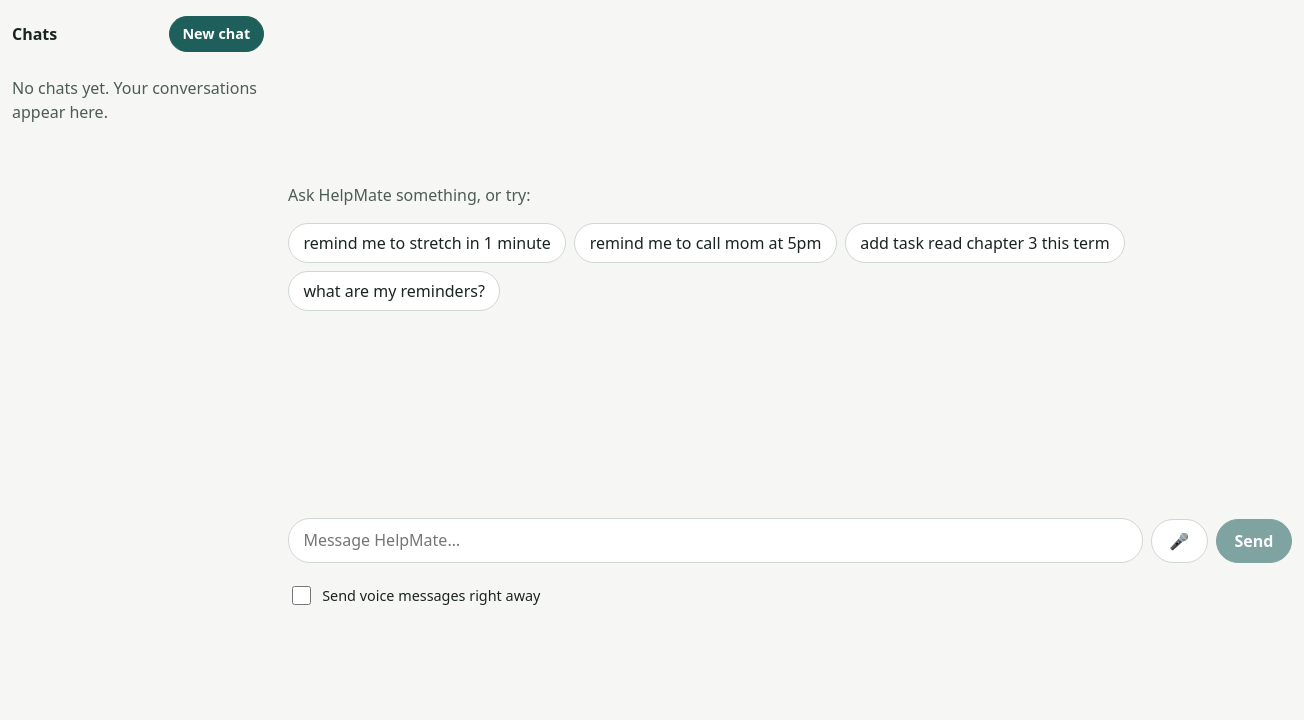
Test: Chat with voice › typed messages are not spoken
Type "tell me a joke" into the text box labelled "Message" at [715, 540], box left=288, top=518, right=1143, bottom=563
Then press Enter
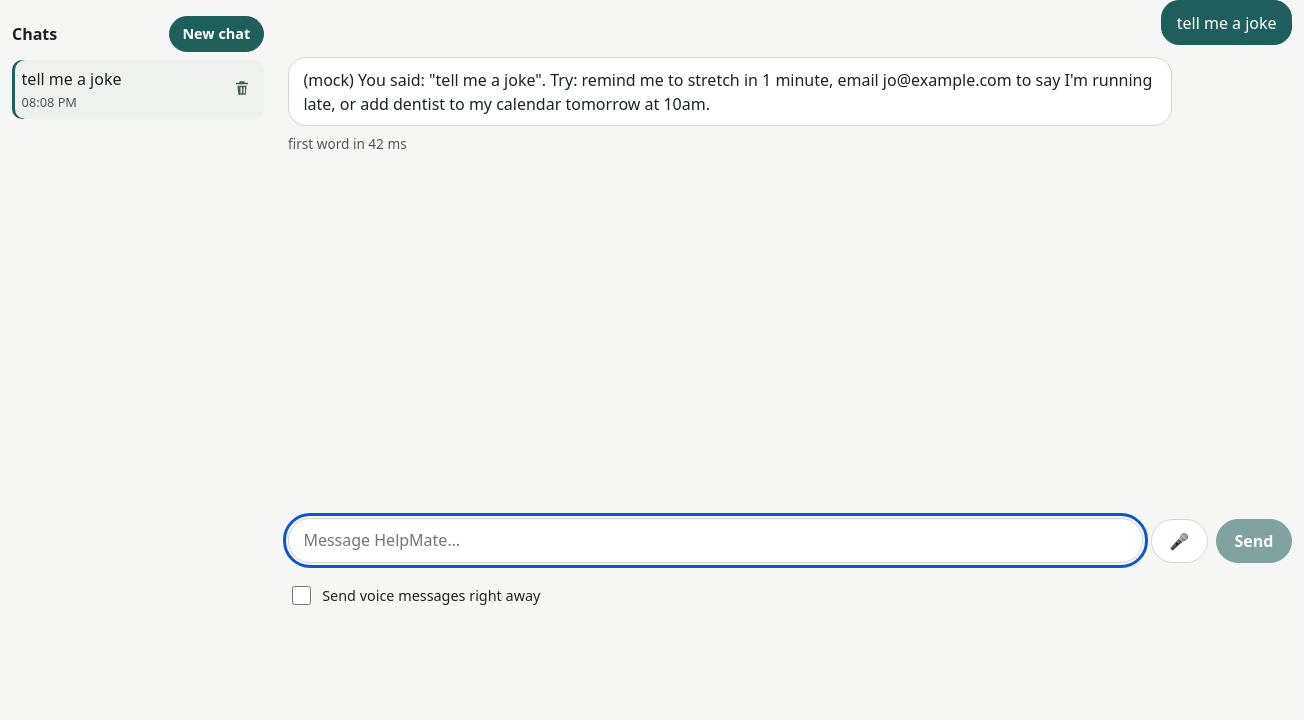
Now the text "(mock) You said" is shown, box left=303, top=69, right=1156, bottom=115
